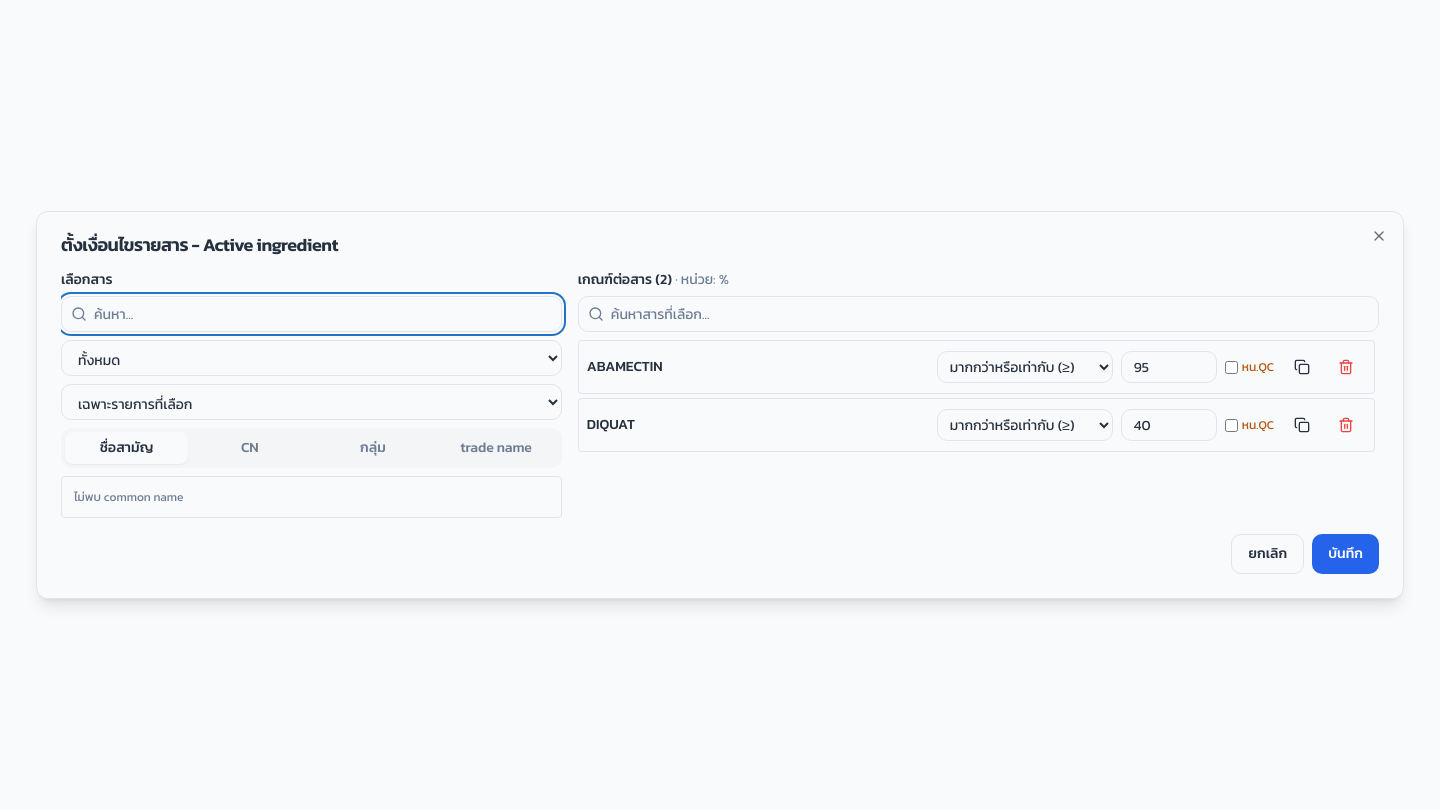
Test: SubstanceStandardsDialog › clones the correct item while the list is filtered
Type "DIQUAT" into the search field with placeholder "ค้นหาสารที่เลือก...".
click(978, 314); type("DIQUAT")  # box [578,296,1379,332]
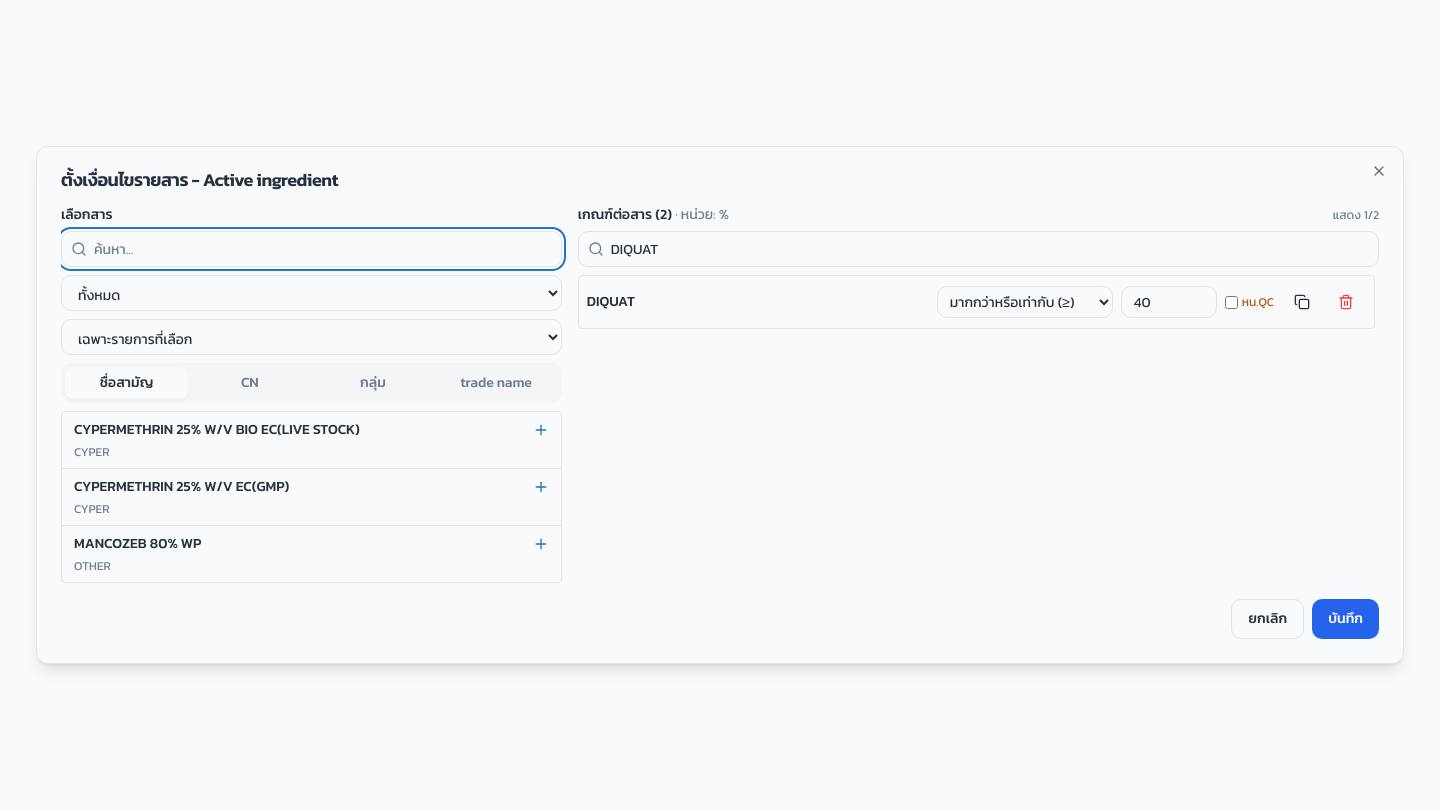
Click the button named "คัดลอก DIQUAT".
click(1302, 302)  # box [1282,282,1322,322]
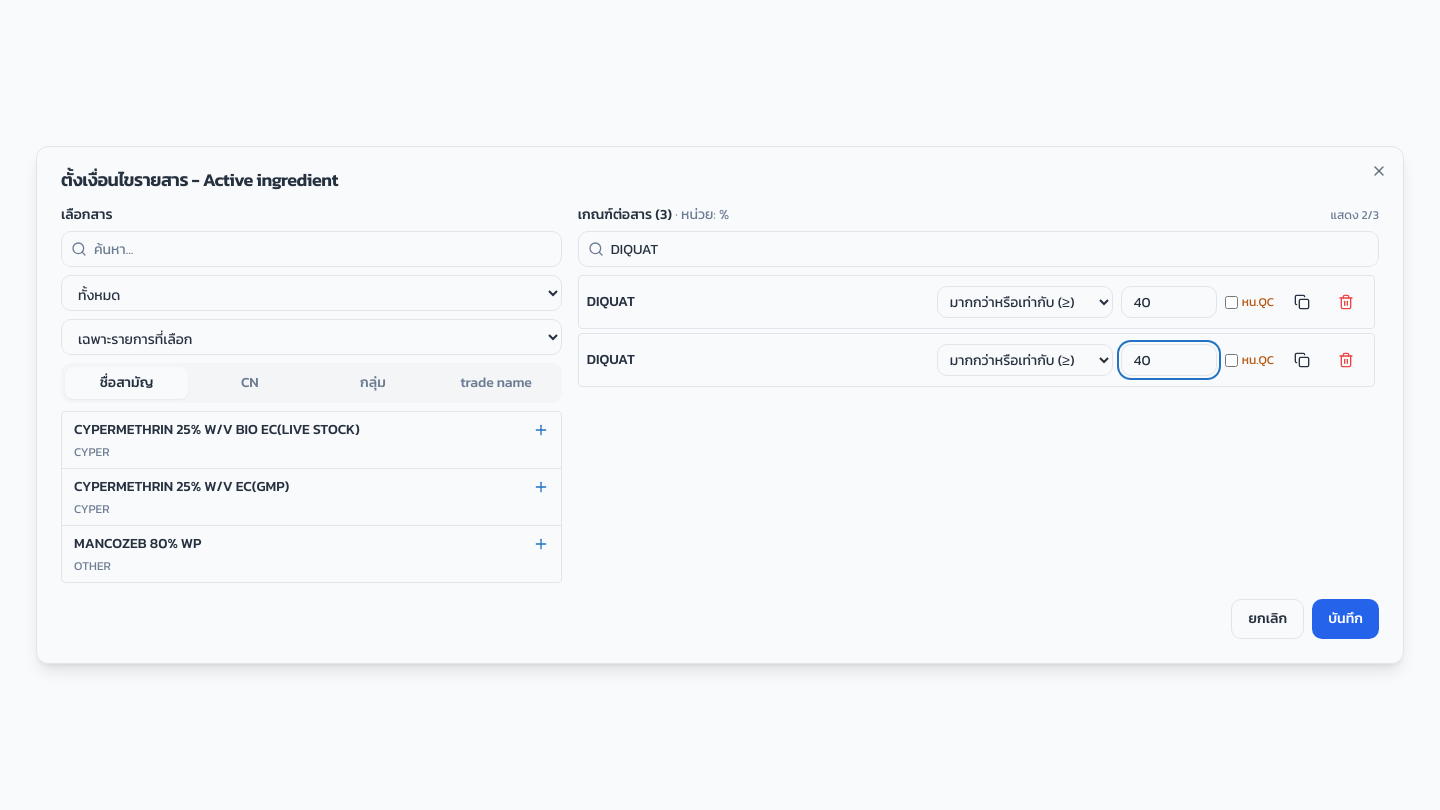
Result: the number of number fields named "ค่า DIQUAT" is 2 at [1121,286,1217,318]; [1121,344,1217,376]
Result: the text "แสดง 2/3" is shown at [1330,207,1379,223]
